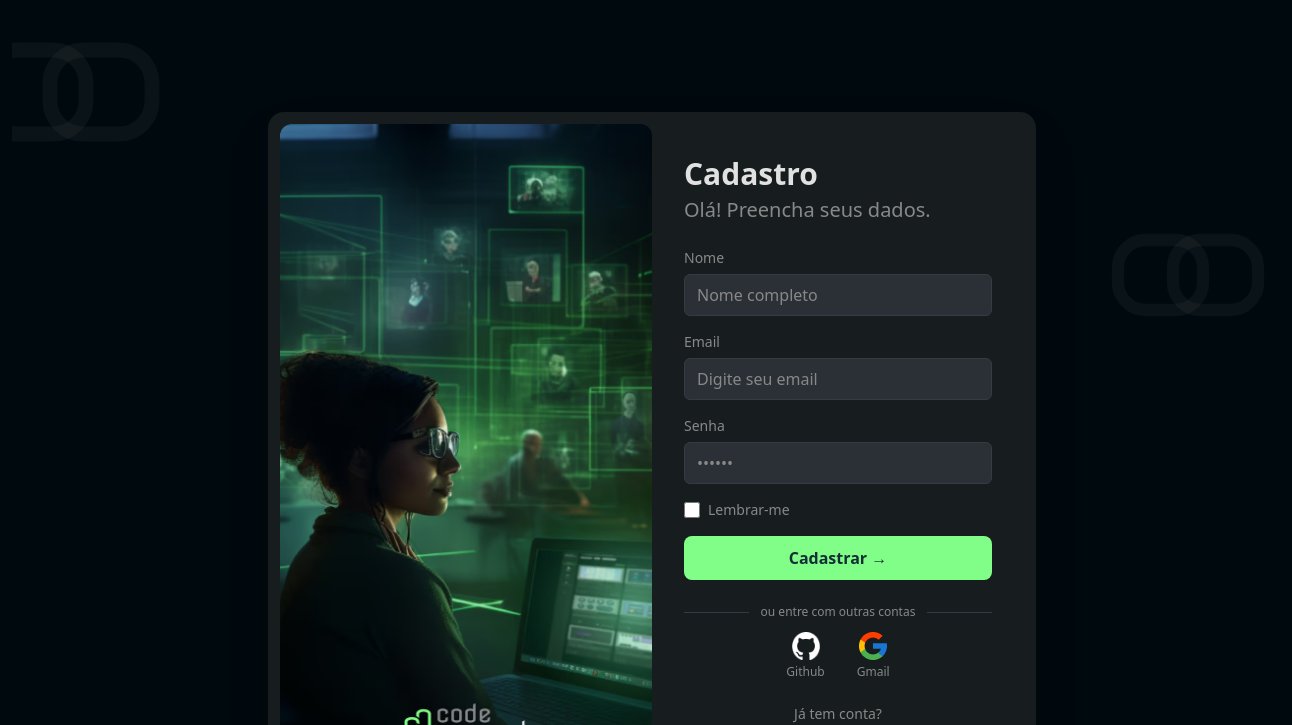
Test: RegisterPage › exibe a mensagem do backend quando o e-mail já existe (409)
The width and height of the screenshot is (1292, 725).
Type "Ana Souza" into the field labelled "Nome". click: [838, 295]
box: [684,274,992,316]
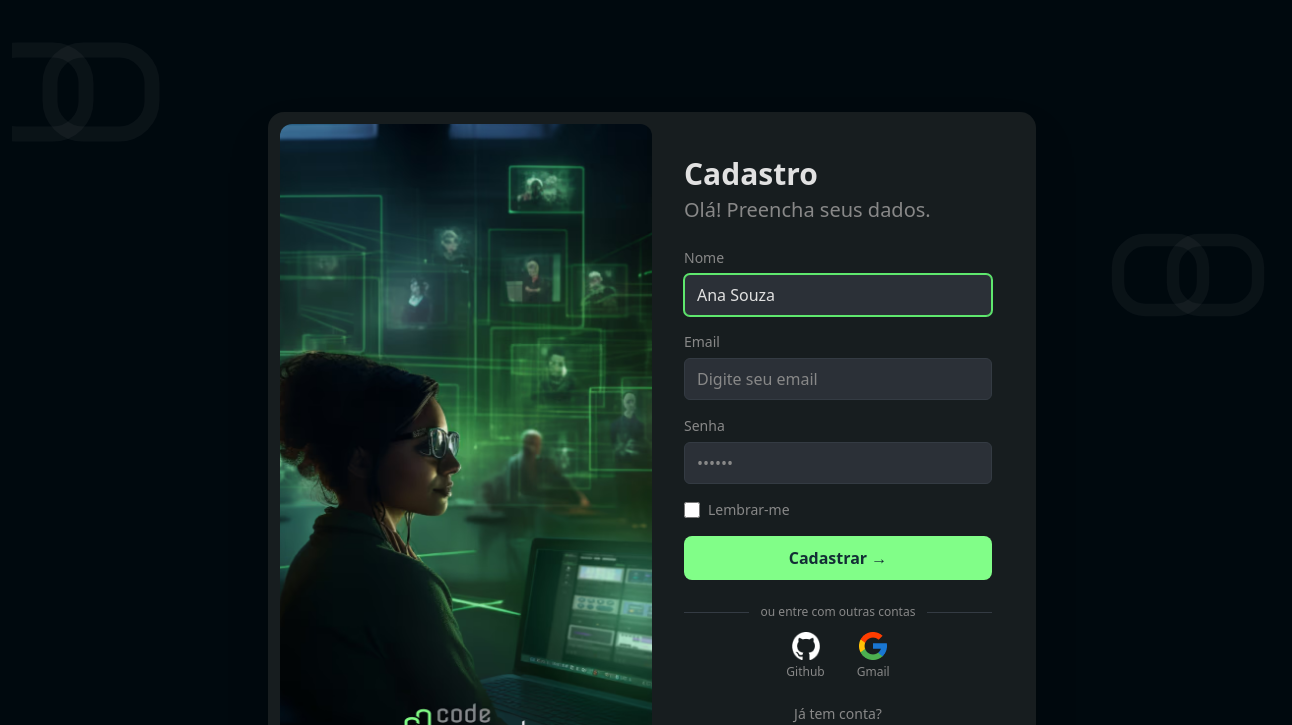
Type "ana@example.com" into the field labelled "Email". click: [838, 379]
box: [684,358,992,400]
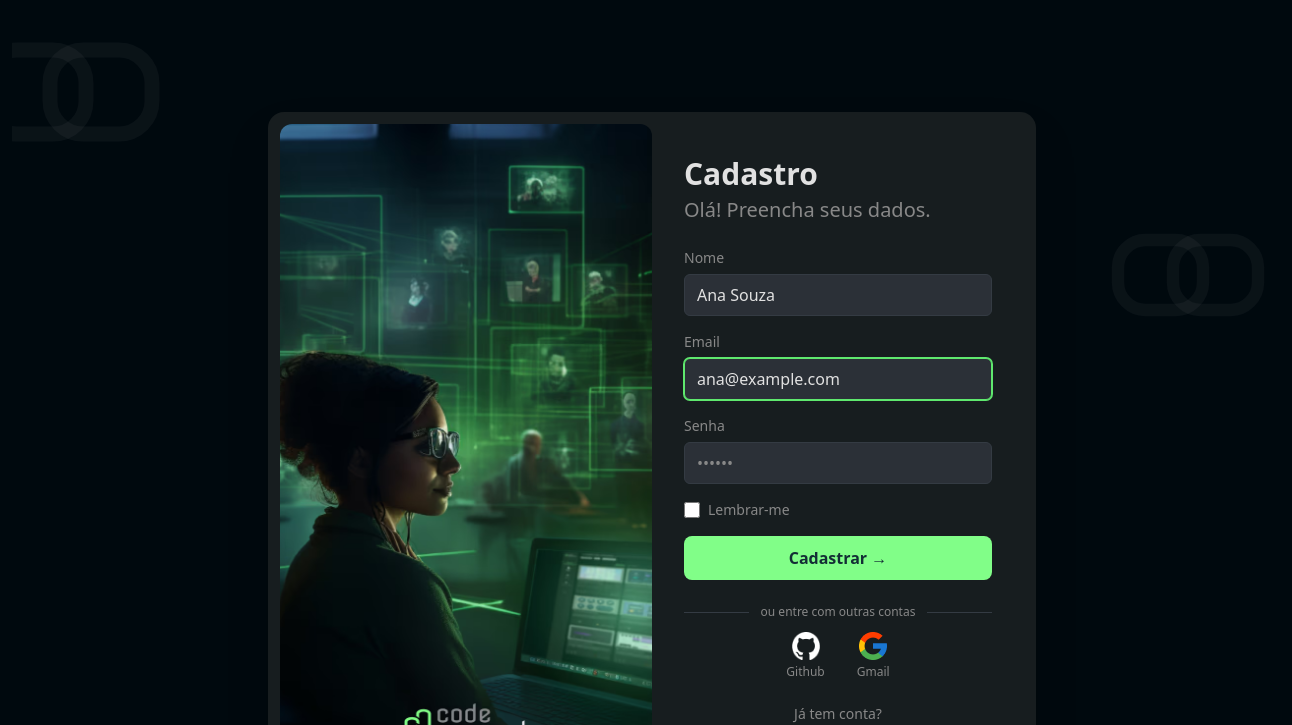
Type "S3nh4Segura!" into the password field labelled "Senha". click: [838, 463]
box: [684,442,992,484]
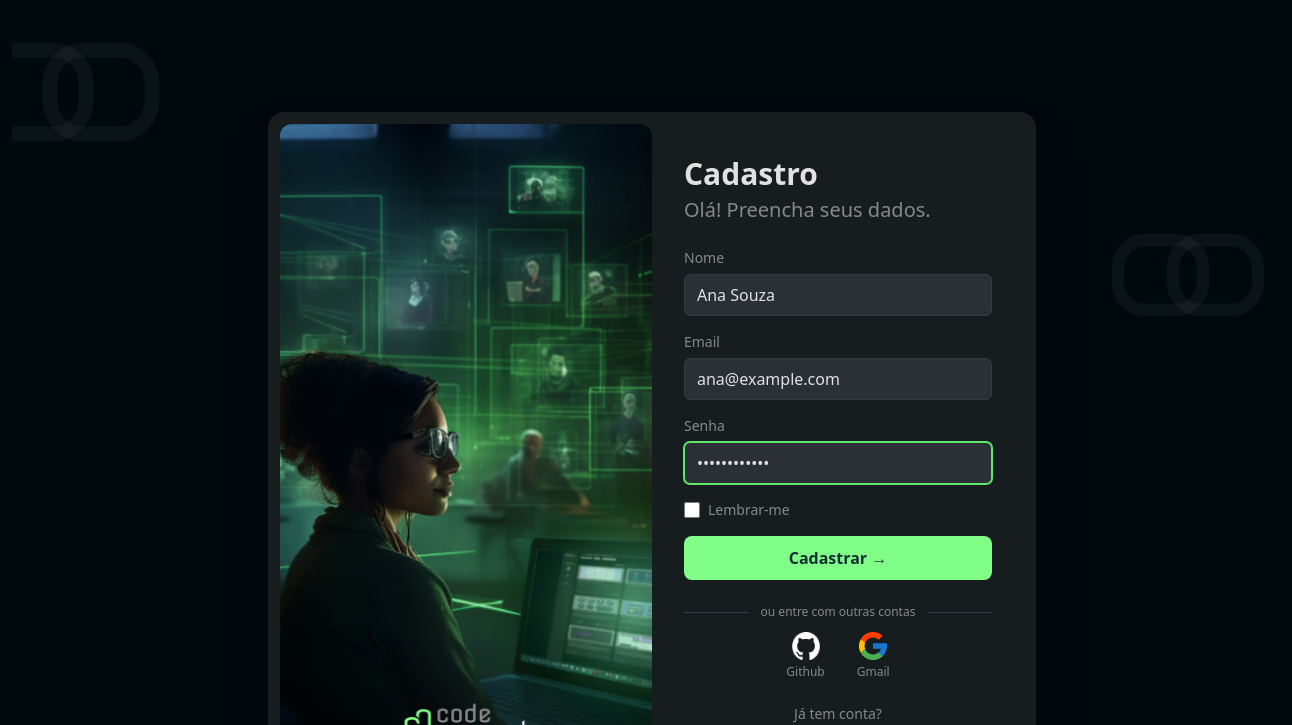
Click the button "Cadastrar →". click: [838, 558]
box: [684,536,992,580]
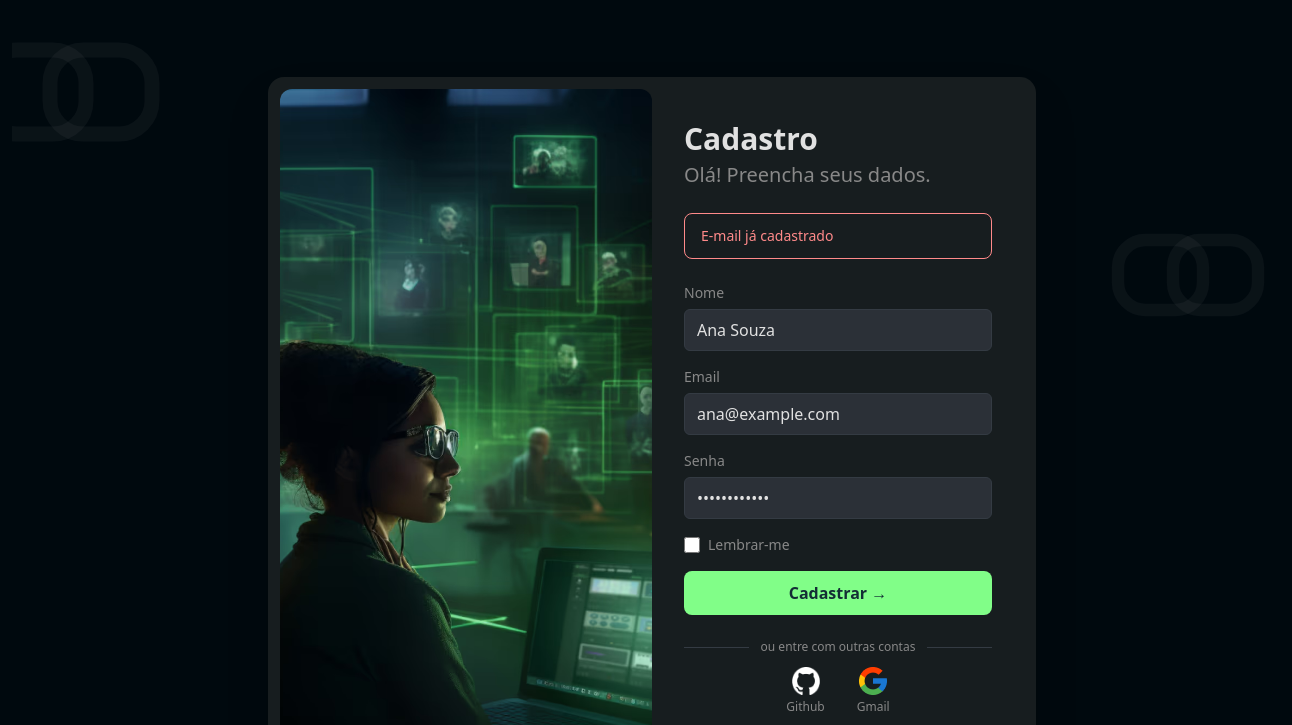
Expected: the message reads "E-mail já cadastrado", [701,226,834,245]
